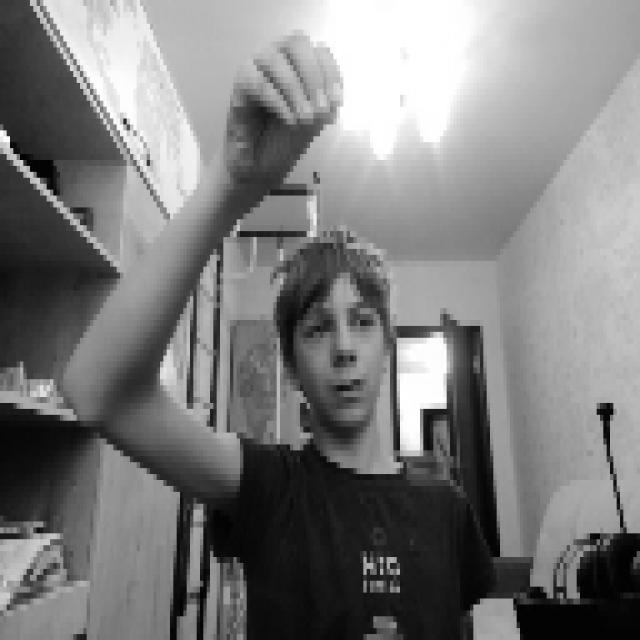left_click: (223, 23, 340, 184)
